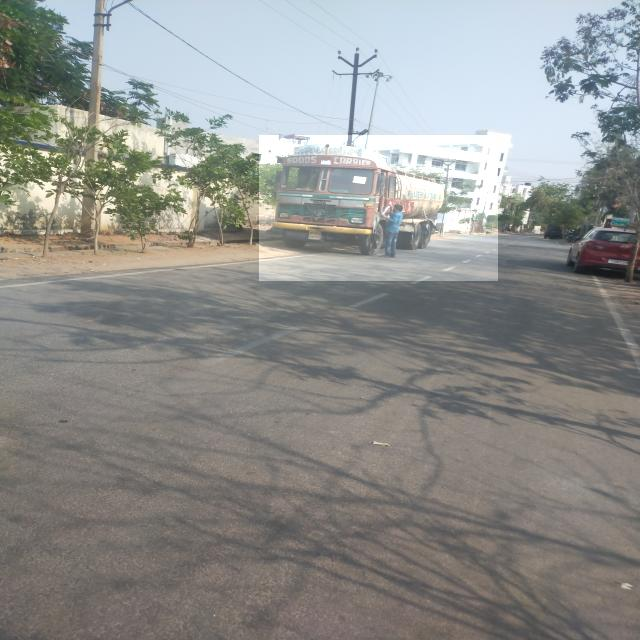Truck: (259, 135, 498, 281)
